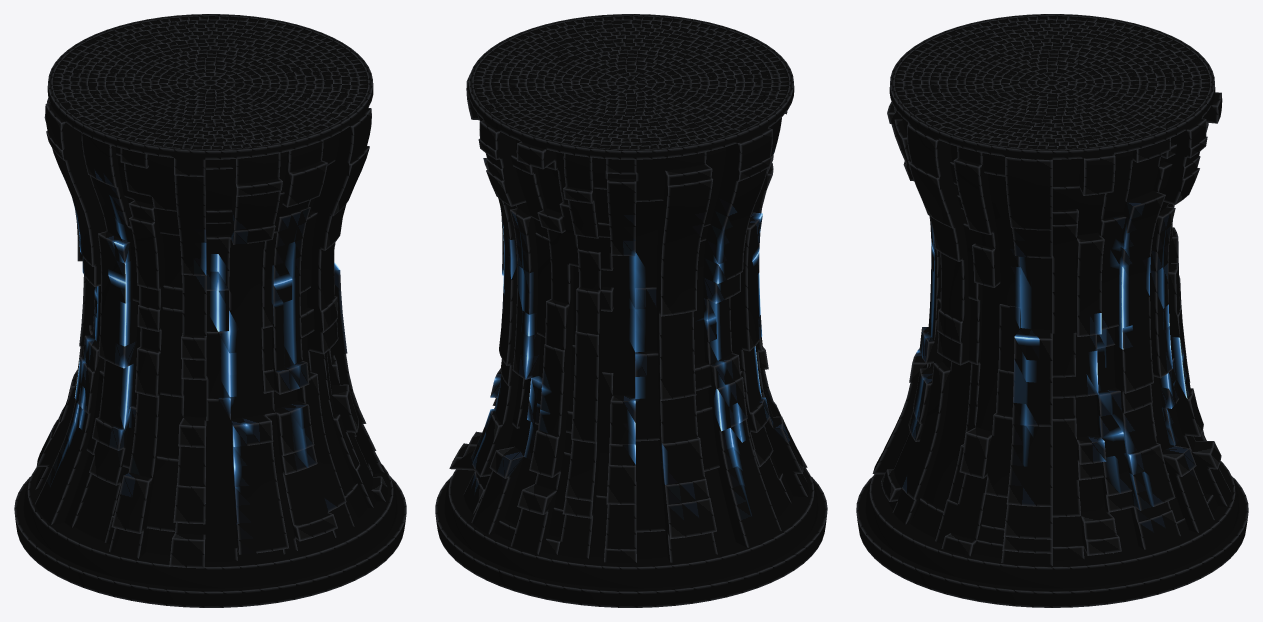
Rendered from island_pillar_huge.glb.
3 renders of one model, left to right at view 1: azimuth 30°, elevation 25°; view 2: azimuth 150°, elevation 25°; view 3: azimuth 270°, elevation 25°, orthographic.
Visible parts, largest first — view 1: island_pillar; view 2: island_pillar; view 3: island_pillar.
Boxes of the visible parts, bbox=[...] form: island_pillar: bbox=[14, 14, 406, 607]; island_pillar: bbox=[435, 14, 827, 607]; island_pillar: bbox=[856, 14, 1248, 607].
Size of the model in its own units: 6.01 by 7.5 by 6.02.
Materials: 1 (1 with a texture image).
